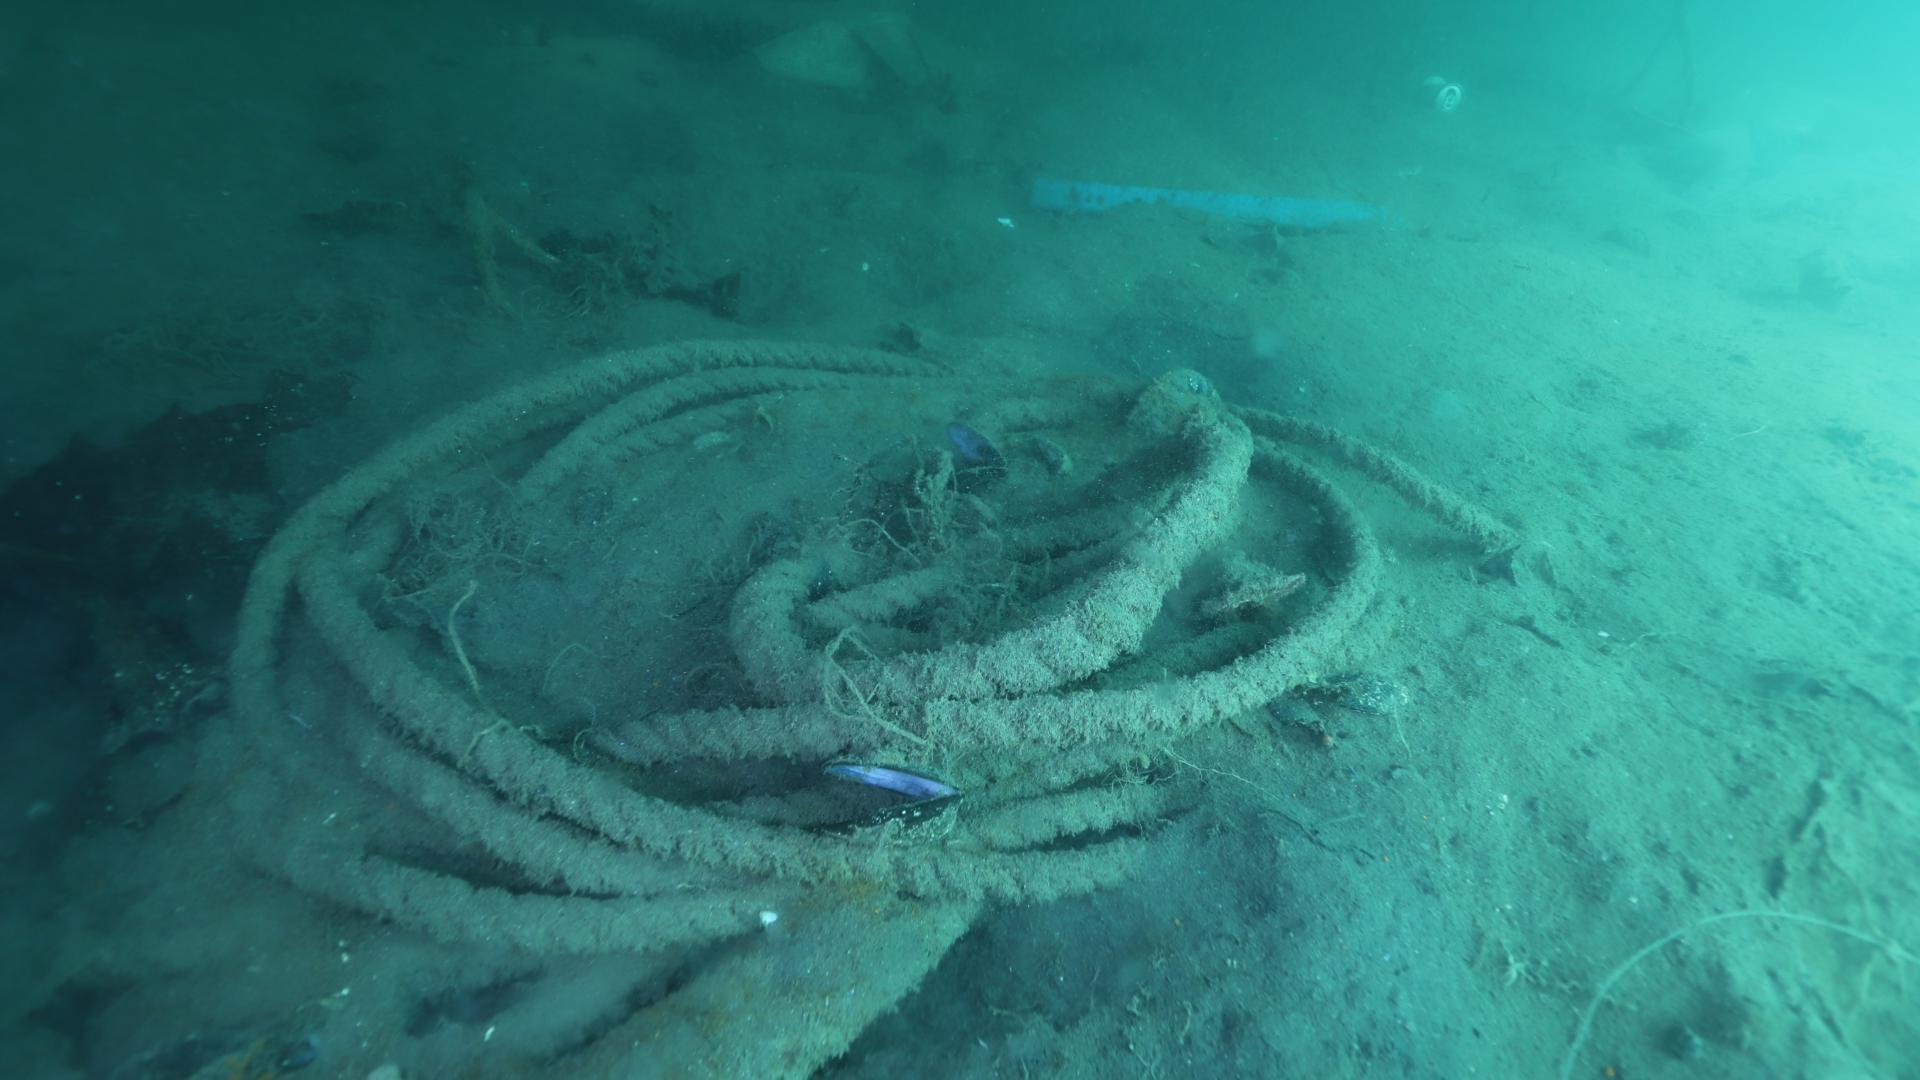bundle of ropes: (229, 334, 1519, 953)
